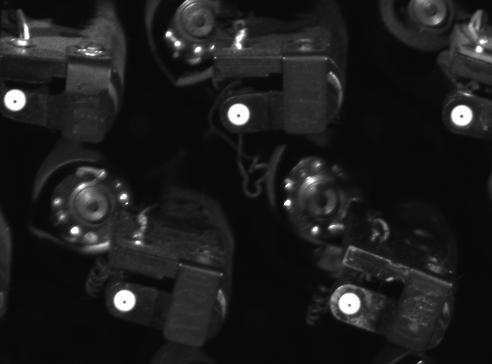fiber: (447, 98, 478, 134), (220, 101, 257, 130), (110, 286, 143, 318), (335, 288, 367, 320), (1, 85, 33, 116)
